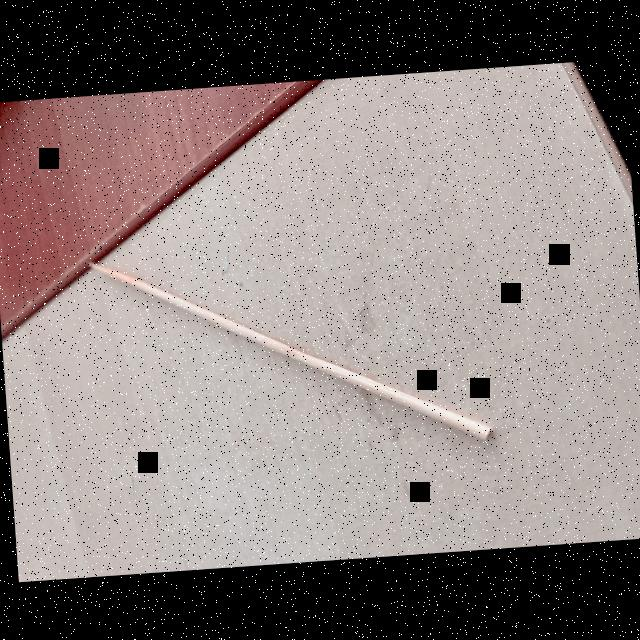stick: (60, 211, 516, 484)
